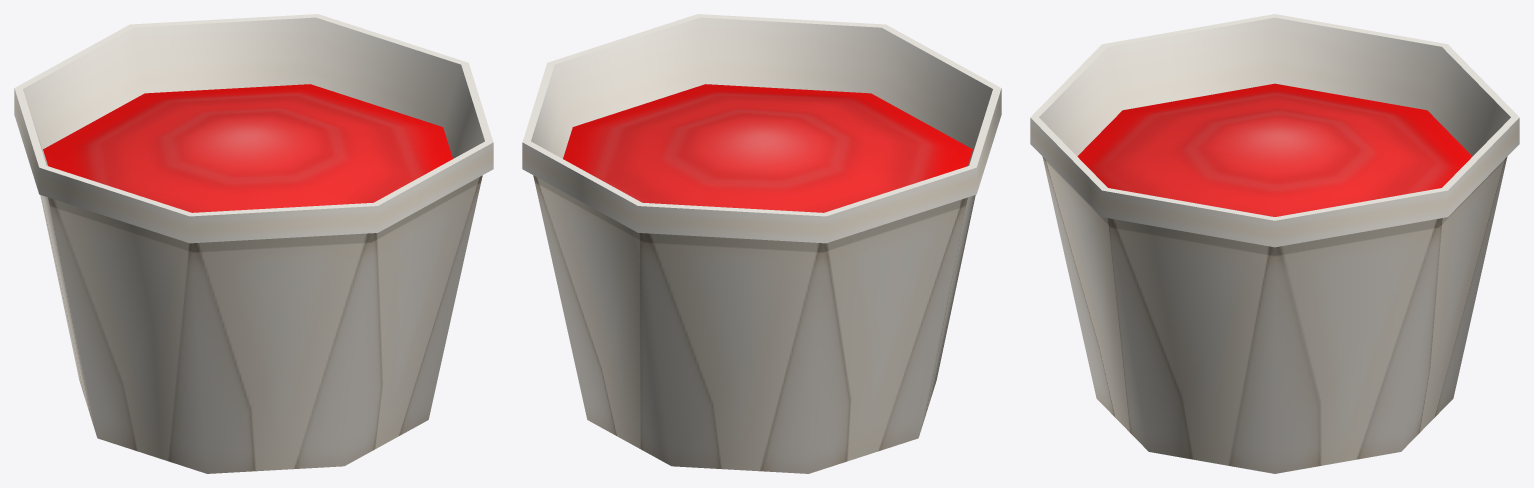
The model's file is fff_sauce_cup_ketchup.FBX.
3 views of the same model, side by side, from view 1: azimuth 30°, elevation 25°; view 2: azimuth 150°, elevation 25°; view 3: azimuth 270°, elevation 25° (orthographic).
Parts seen in each view (by area): view 1: fff_sauce_cup_ketchup; view 2: fff_sauce_cup_ketchup; view 3: fff_sauce_cup_ketchup.
Boxes of the visible parts, x1,y1,x2,y2 form: fff_sauce_cup_ketchup: (14, 14, 493, 473); fff_sauce_cup_ketchup: (522, 14, 1001, 473); fff_sauce_cup_ketchup: (1030, 14, 1519, 473).
Size of the model in its own units: 1.68 by 1.06 by 1.68.
